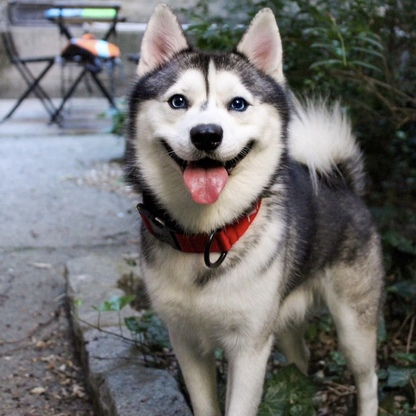husky: (115, 1, 395, 416)
